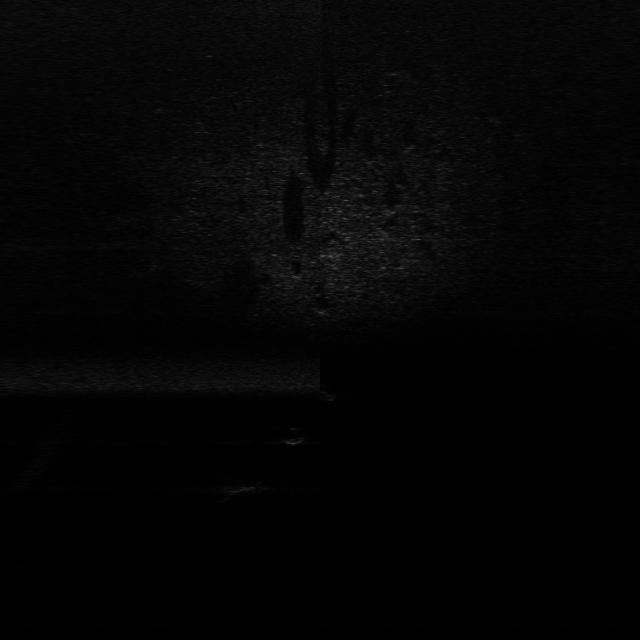ball: (278, 428, 306, 446)
square cage: (218, 477, 268, 498)
tyre: (302, 376, 339, 404)
